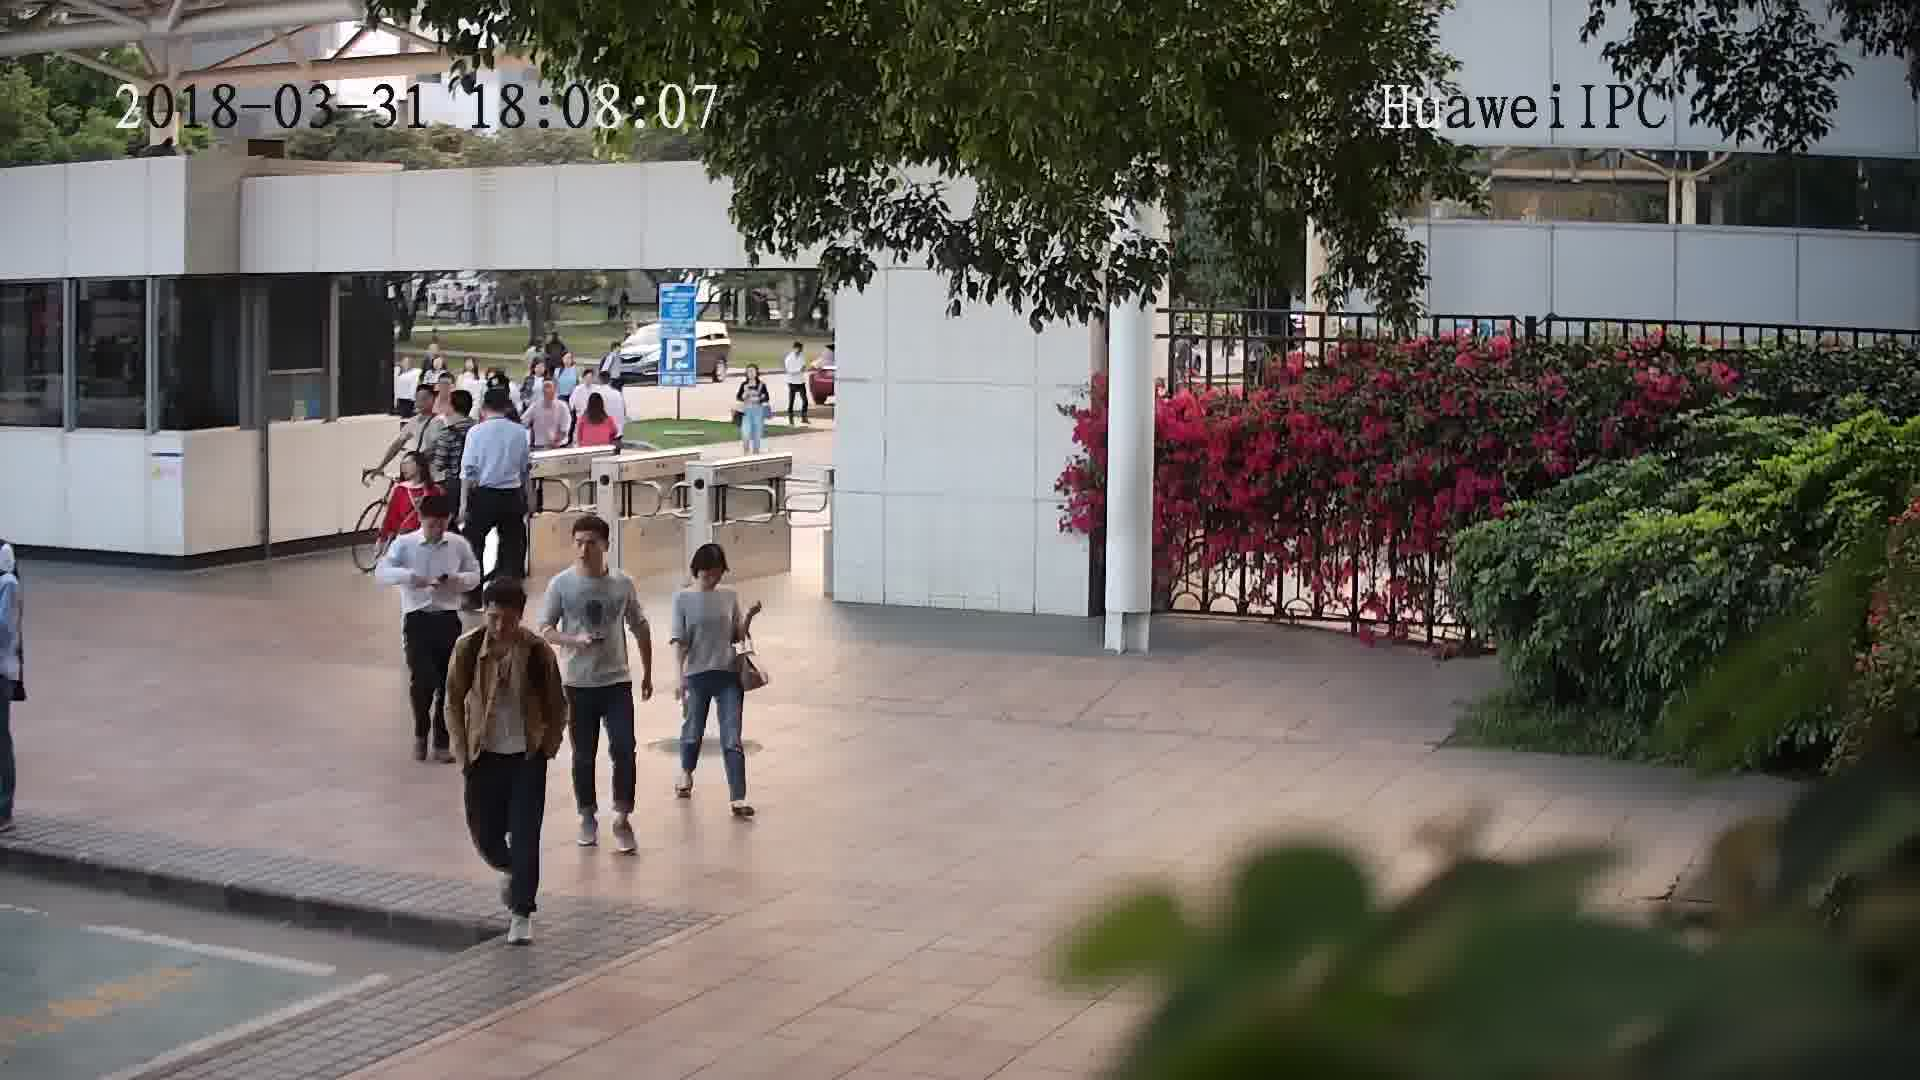face: (480, 602, 523, 645), (566, 528, 604, 573)
person: (455, 575, 554, 663), (550, 514, 632, 597), (388, 495, 473, 559), (674, 539, 748, 613), (463, 389, 527, 447), (382, 451, 444, 499), (404, 381, 449, 432), (428, 386, 473, 437), (526, 377, 572, 419), (571, 391, 616, 431), (523, 358, 565, 391), (432, 373, 460, 416), (458, 353, 488, 390), (554, 348, 585, 382), (736, 360, 770, 391), (783, 339, 809, 369), (419, 355, 449, 380), (604, 340, 624, 368)
